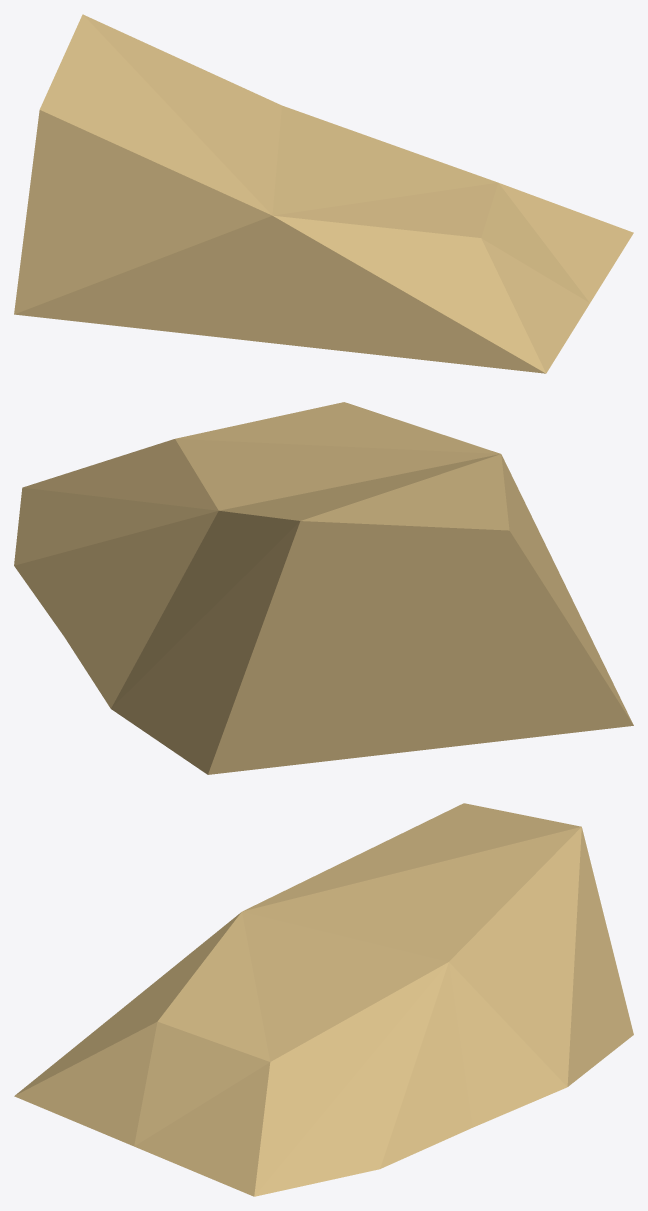
File: Rock_2_low.fbx
The picture shows the model from 3 angles, top to bottom: view 1: azimuth 30°, elevation 25°; view 2: azimuth 150°, elevation 25°; view 3: azimuth 270°, elevation 25°; orthographic projection. The views are drawn at different scales.
Parts seen in each view (by area): view 1: Stone_2_low; view 2: Stone_2_low; view 3: Stone_2_low.
Part boxes in pixels (x1,y1,x2,y2): Stone_2_low: (14, 14, 633, 373); Stone_2_low: (14, 402, 633, 774); Stone_2_low: (14, 803, 633, 1196).
Bounding box in the file's own units: 1.01 × 0.3354 × 1.01.
